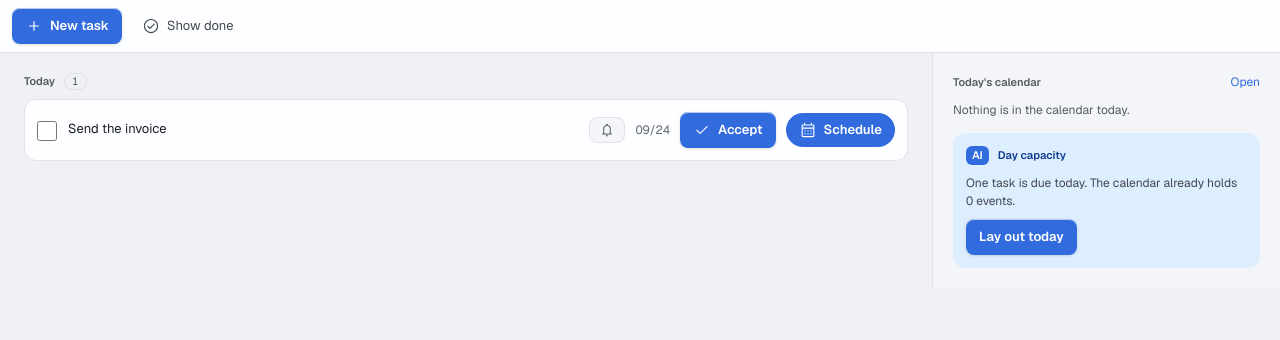
Test: TasksSpace › takes a task mail proposed, and reads the list again rather than editing it
This screenshot has width=1280, height=340.
Click the button "Accept" at x=728, y=130, box [680,112,776,148]
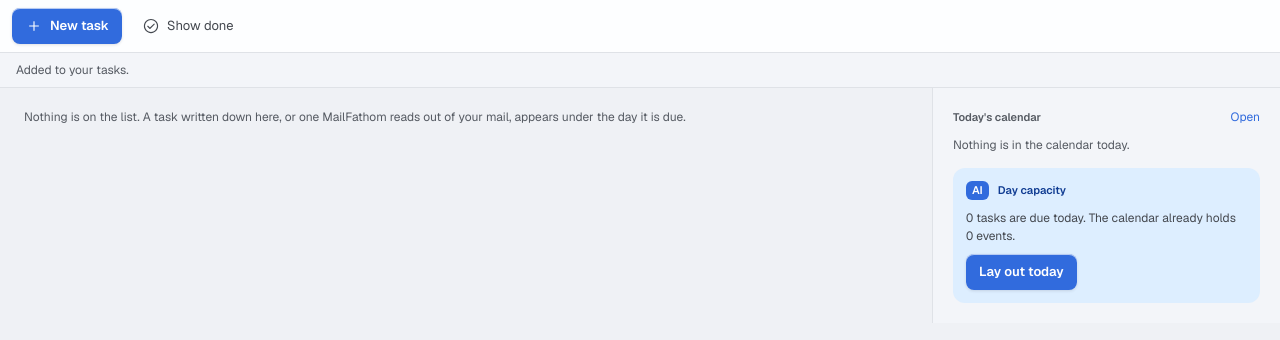
Now the message reads "Added to your tasks.", box [16,62,129,78]
Now the text "Send the invoice" is gone
